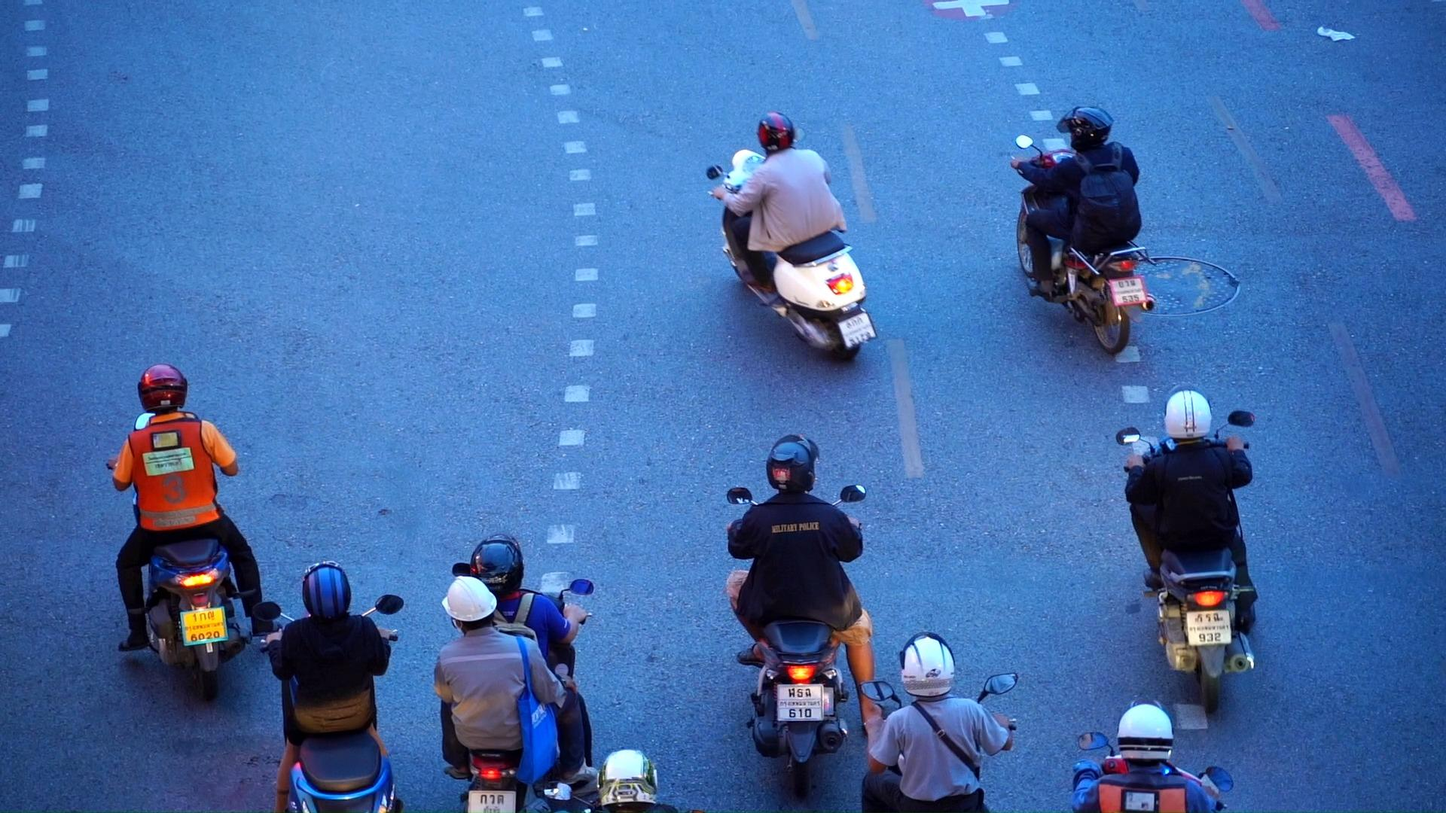driver: (726, 433, 898, 798), (105, 364, 285, 701), (1117, 382, 1260, 716), (433, 534, 601, 813), (705, 111, 879, 361), (251, 559, 404, 813), (1008, 106, 1158, 356), (858, 633, 1018, 813), (1072, 696, 1235, 813)
helmet: (1116, 696, 1175, 767), (597, 749, 658, 813), (898, 632, 956, 697), (469, 534, 524, 599), (441, 575, 497, 633), (766, 433, 820, 493), (1163, 382, 1212, 444), (302, 560, 352, 620), (1055, 106, 1115, 155), (137, 364, 187, 414), (757, 112, 795, 155)
